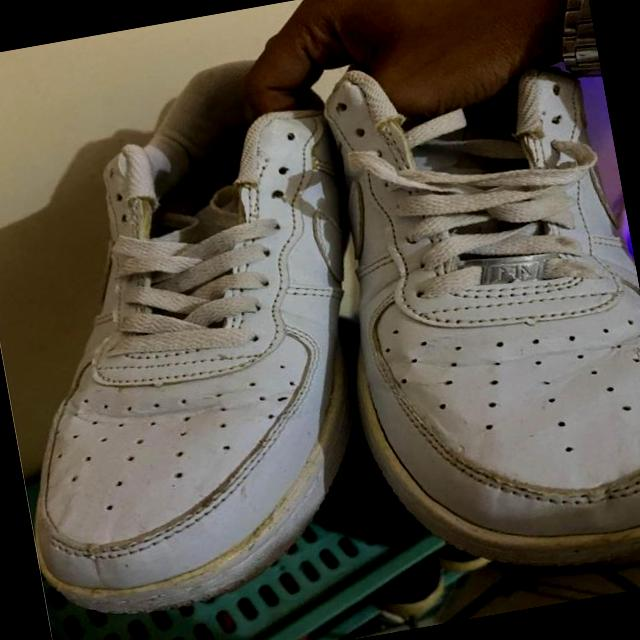nike_fake_airforce: (0, 39, 412, 630), (294, 7, 640, 604)
